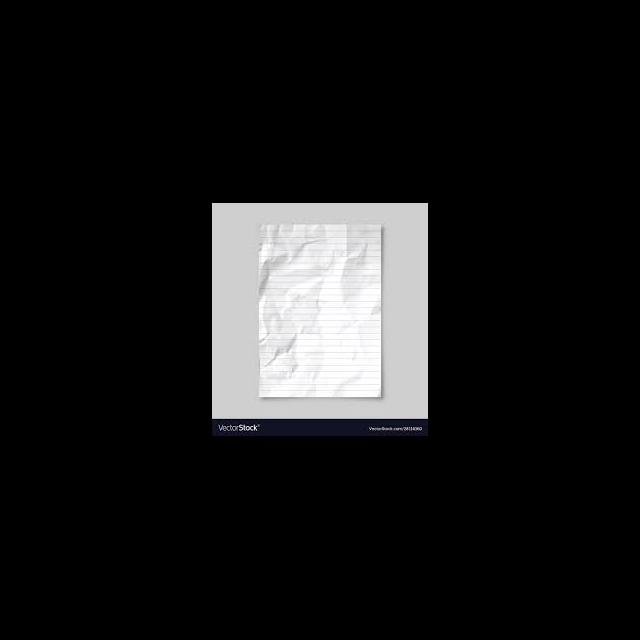paper: (257, 222, 383, 396)
